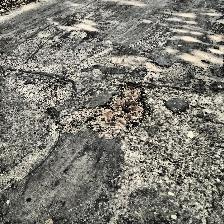pothole: (88, 80, 150, 136)
